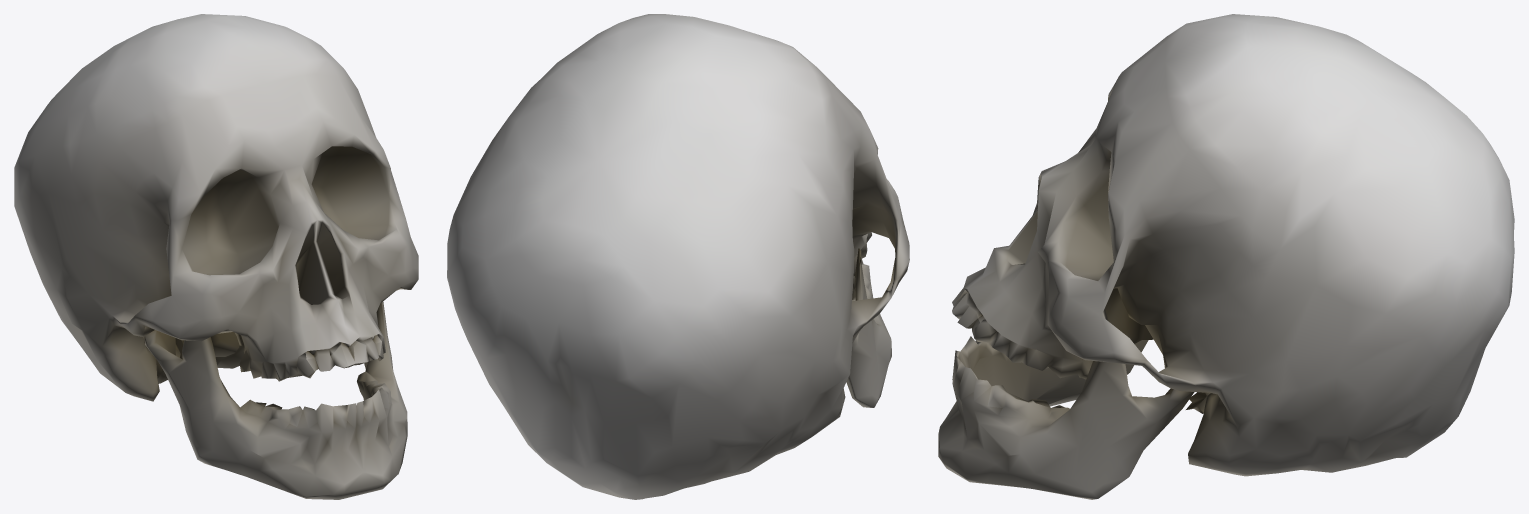
The picture shows the model from 3 angles, left to right: view 1: azimuth 30°, elevation 25°; view 2: azimuth 150°, elevation 25°; view 3: azimuth 270°, elevation 25°; orthographic projection. The views are drawn at different scales.
Parts seen in each view (by area): view 1: alt1.002; view 2: alt1.002; view 3: alt1.002.
Part boxes in pixels (left/top/right/bottom): alt1.002: left=14, top=14, right=418, bottom=499; alt1.002: left=447, top=14, right=909, bottom=499; alt1.002: left=938, top=14, right=1514, bottom=499.
Size of the model in its own units: 0.3483 by 0.4047 by 0.5.
